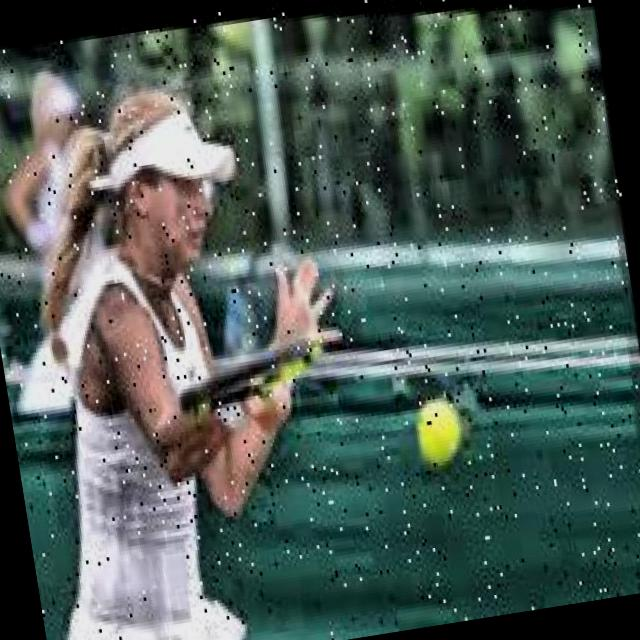Tennis Ball: (411, 382, 480, 477)
